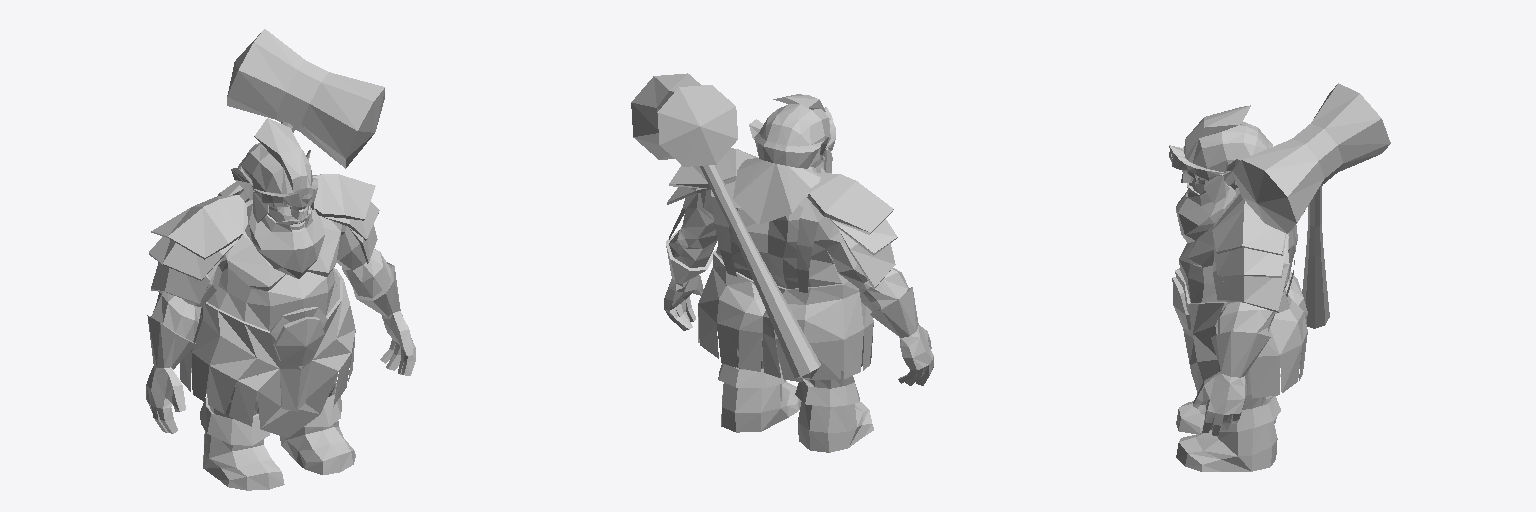
File: enano.obj
3 views of the same model, side by side, from view 1: azimuth 30°, elevation 25°; view 2: azimuth 150°, elevation 25°; view 3: azimuth 270°, elevation 25° (orthographic).
Visible parts, largest first — view 1: Enano, Enano Mazo; view 2: Enano, Enano Mazo; view 3: Enano, Enano Mazo.
Boxes of the visible parts, x1,y1,x2,y2 form: Enano: [146, 118, 415, 490]; Enano Mazo: [227, 29, 384, 168]; Enano: [664, 94, 933, 452]; Enano Mazo: [631, 73, 820, 378]; Enano: [1169, 105, 1307, 471]; Enano Mazo: [1232, 83, 1390, 328].
Size of the model in its own units: 15.02 by 20.08 by 10.84.